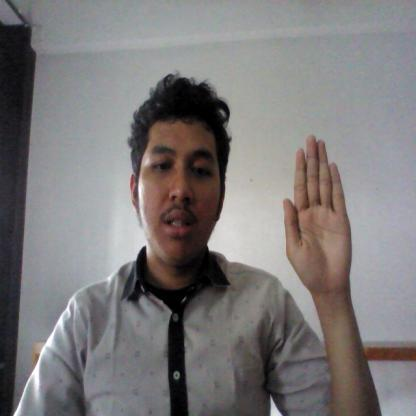Halo: (271, 118, 358, 301)
